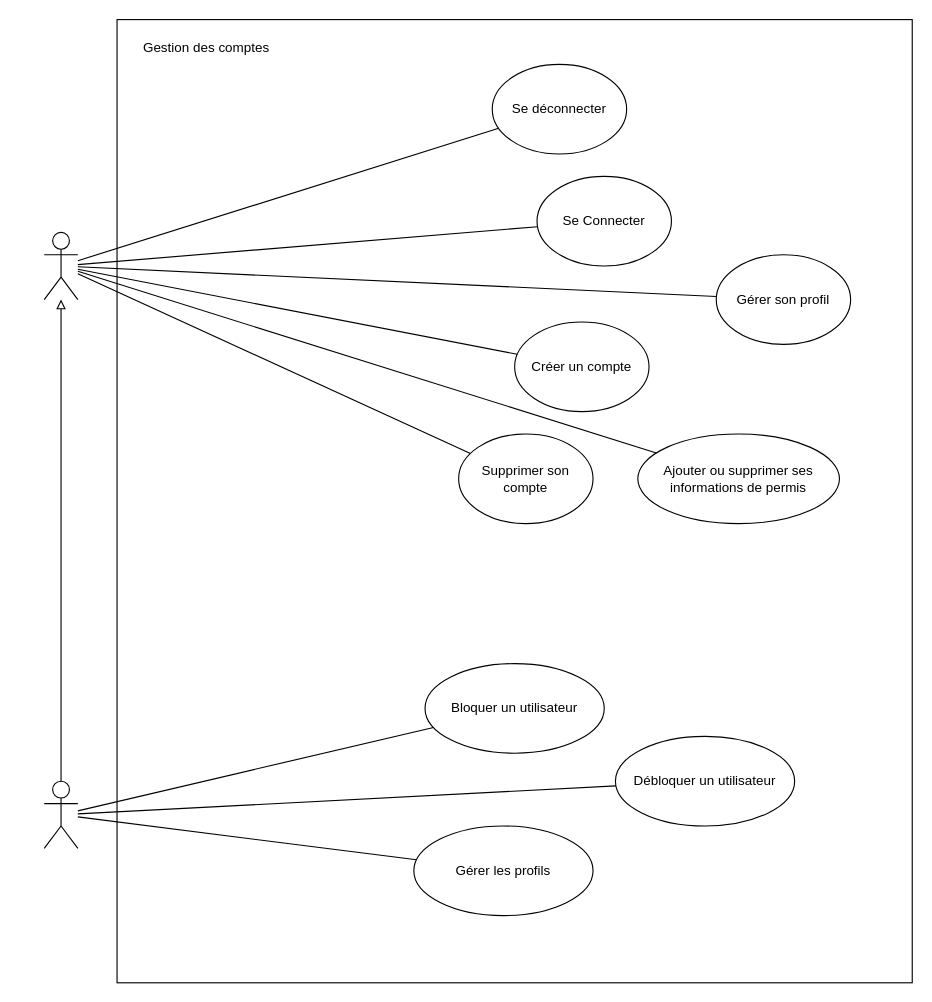
Image size: 932x1002. Some labels were removed from this diagram. Here are the shapes that lost their labels. From the top down, the centre of each, then its label:
At (60,265): "Basic User".
At (60,814): "Service Client".
